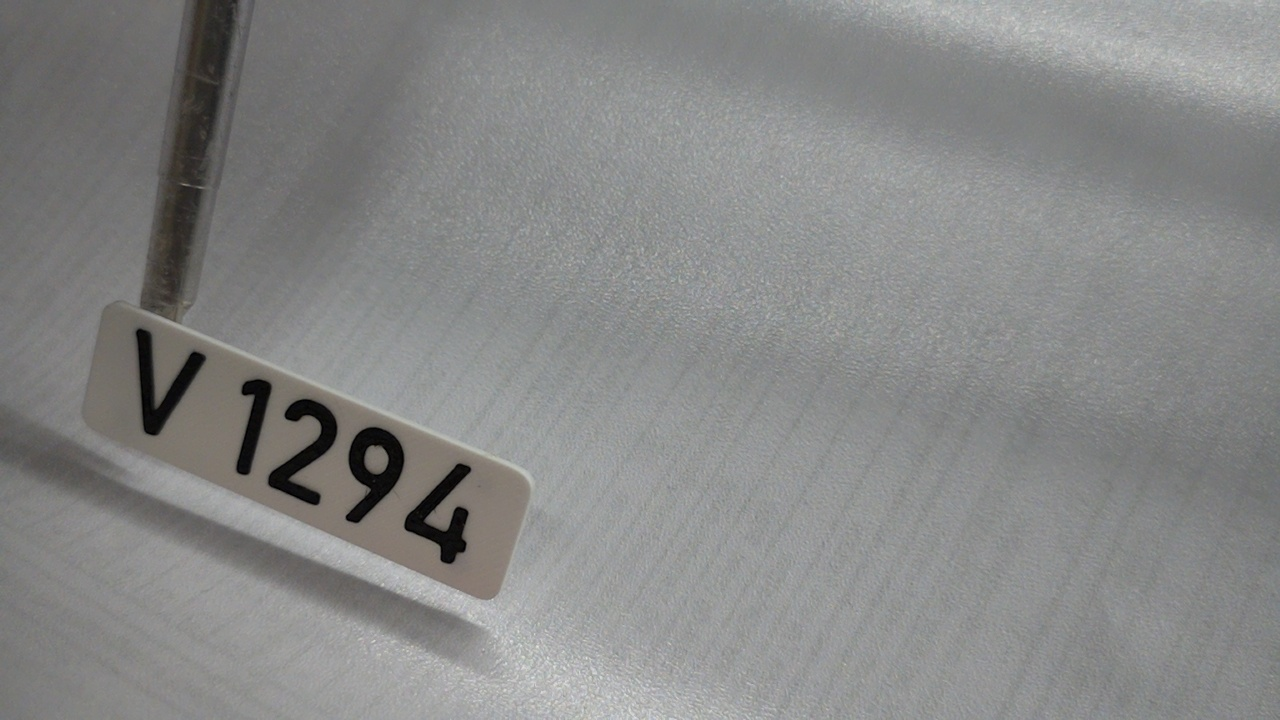license_plate: (78, 296, 536, 604)
